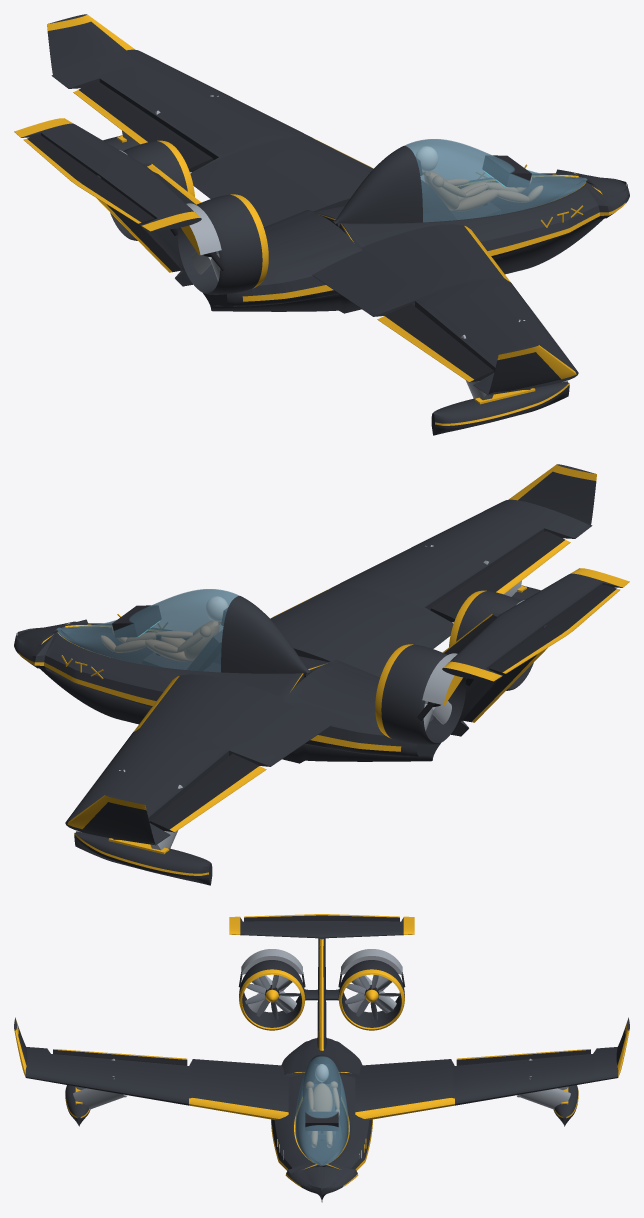
File: A_continuous__semi_35.glb
3 views of the same model, one above another, from view 1: azimuth 30°, elevation 25°; view 2: azimuth 150°, elevation 25°; view 3: azimuth 270°, elevation 25° (orthographic). The views are drawn at different scales.
Visible parts, largest first — view 1: Ricochet_Wing_Port, Ricochet_ConceptA_Hull_Cabin, Ricochet_Wing_Stbd, Ricochet_Canopy_Glass, Ricochet_Tail_Pylon_T_Tail, Ricochet_Duct_Stbd, Ricochet_Aileron_Port, Ricochet_Aileron_Stbd, Ricochet_Sponson_Stbd, Ricochet_Winglet_Port, Study_Pilot_Manikin, Ricochet_Winglet_Stbd (+5 smaller); view 2: Ricochet_Wing_Stbd, Ricochet_ConceptA_Hull_Cabin, Ricochet_Wing_Port, Ricochet_Canopy_Glass, Ricochet_Tail_Pylon_T_Tail, Ricochet_Duct_Port, Ricochet_Aileron_Stbd, Ricochet_Aileron_Port, Ricochet_Sponson_Port, Ricochet_Winglet_Stbd, Study_Pilot_Manikin, Ricochet_Winglet_Port (+5 smaller); view 3: Ricochet_Wing_Port, Ricochet_Wing_Stbd, Ricochet_ConceptA_Hull_Cabin, Ricochet_Canopy_Glass, Ricochet_Tail_Pylon_T_Tail, Ricochet_Duct_Port, Ricochet_Duct_Stbd, Study_Pilot_Manikin, Ricochet_Elevator, Ricochet_Aileron_Port, Ricochet_Aileron_Stbd, Ricochet_Fan_Rotor_Port (+8 smaller).
Boxes of the visible parts, left/top/right/bottom form: Ricochet_Wing_Port: left=51, top=49, right=373, bottom=227; Ricochet_ConceptA_Hull_Cabin: left=203, top=164, right=629, bottom=313; Ricochet_Wing_Stbd: left=312, top=224, right=578, bottom=395; Ricochet_Canopy_Glass: left=332, top=139, right=587, bottom=223; Ricochet_Tail_Pylon_T_Tail: left=14, top=118, right=201, bottom=286; Ricochet_Duct_Stbd: left=178, top=194, right=268, bottom=294; Ricochet_Aileron_Port: left=73, top=81, right=213, bottom=172; Ricochet_Aileron_Stbd: left=377, top=303, right=494, bottom=382; Ricochet_Sponson_Stbd: left=431, top=381, right=569, bottom=435; Ricochet_Winglet_Port: left=47, top=14, right=135, bottom=75; Study_Pilot_Manikin: left=415, top=146, right=542, bottom=211; Ricochet_Winglet_Stbd: left=488, top=345, right=576, bottom=394; Ricochet_Wing_Stbd: left=270, top=499, right=592, bottom=677; Ricochet_ConceptA_Hull_Cabin: left=14, top=614, right=440, bottom=763; Ricochet_Wing_Port: left=65, top=674, right=331, bottom=845; Ricochet_Canopy_Glass: left=56, top=589, right=311, bottom=673; Ricochet_Tail_Pylon_T_Tail: left=442, top=568, right=629, bottom=736; Ricochet_Duct_Port: left=375, top=644, right=465, bottom=744; Ricochet_Aileron_Stbd: left=430, top=531, right=570, bottom=622; Ricochet_Aileron_Port: left=149, top=753, right=266, bottom=832; Ricochet_Sponson_Port: left=74, top=831, right=212, bottom=885; Ricochet_Winglet_Stbd: left=508, top=464, right=596, bottom=525; Study_Pilot_Manikin: left=101, top=596, right=228, bottom=661; Ricochet_Winglet_Port: left=67, top=795, right=155, bottom=844; Ricochet_Wing_Port: left=355, top=1047, right=618, bottom=1119; Ricochet_Wing_Stbd: left=25, top=1047, right=288, bottom=1119; Ricochet_ConceptA_Hull_Cabin: left=271, top=1038, right=372, bottom=1202; Ricochet_Canopy_Glass: left=295, top=1054, right=348, bottom=1165; Ricochet_Tail_Pylon_T_Tail: left=229, top=916, right=414, bottom=1050; Ricochet_Duct_Port: left=338, top=960, right=404, bottom=1030; Ricochet_Duct_Stbd: left=239, top=960, right=305, bottom=1030; Study_Pilot_Manikin: left=306, top=1064, right=339, bottom=1147; Ricochet_Elevator: left=244, top=914, right=399, bottom=921; Ricochet_Aileron_Port: left=456, top=1049, right=590, bottom=1065; Ricochet_Aileron_Stbd: left=53, top=1049, right=187, bottom=1065; Ricochet_Fan_Rotor_Port: left=345, top=975, right=399, bottom=1019.
Bounding box in the file's own units: 6.78 × 2.34 × 9.64.
